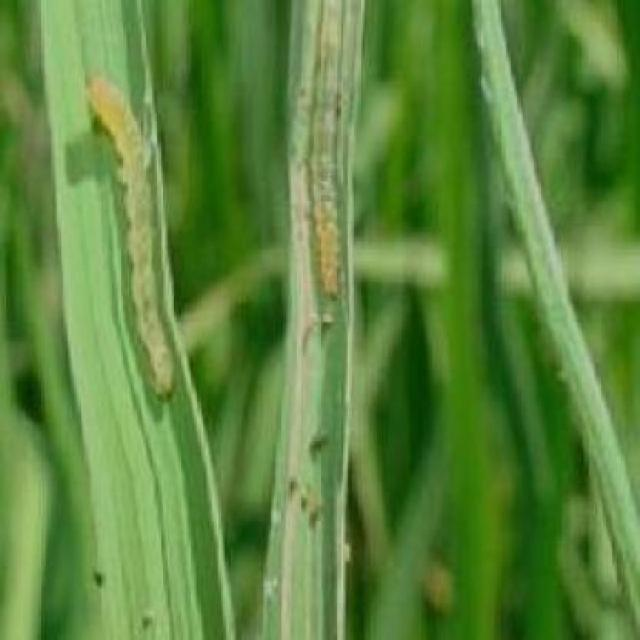leaf-folder: (78, 47, 202, 459), (287, 2, 376, 336)
